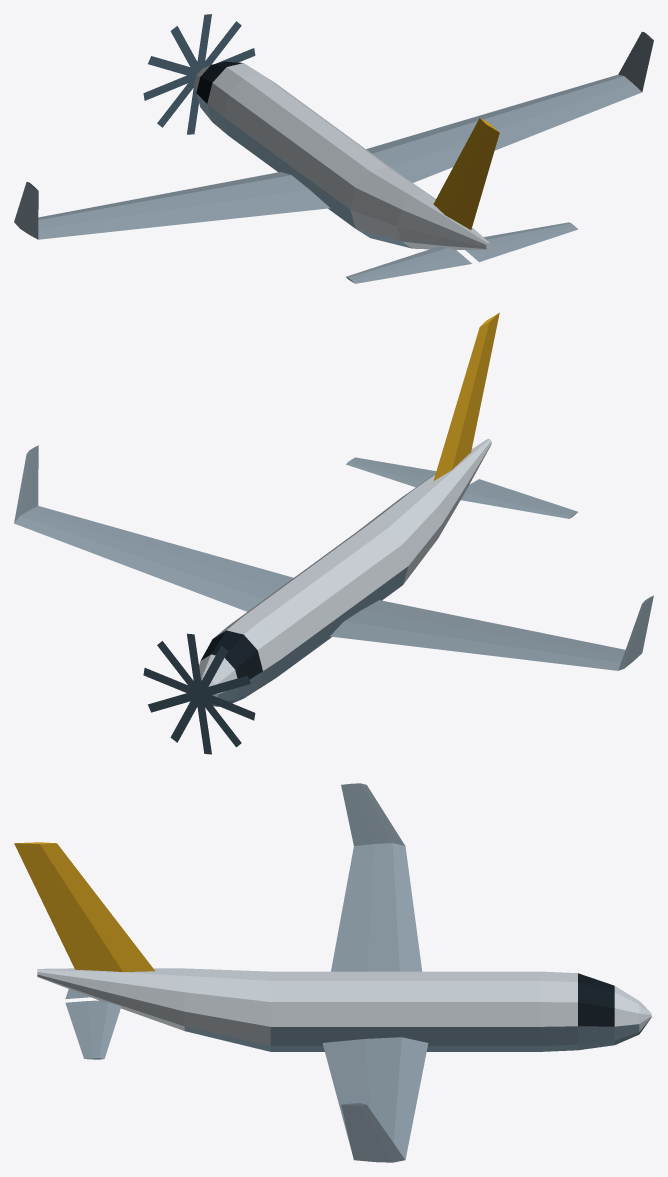
Rendered from TBM9.glb.
3 renders of one model, top to bottom at view 1: azimuth 30°, elevation 25°; view 2: azimuth 150°, elevation 25°; view 3: azimuth 270°, elevation 25°, orthographic. The views are drawn at different scales.
Visible parts, largest first — view 1: lod0; view 2: lod0; view 3: lod0.
Part boxes in pixels (left/top/right/bottom): lod0: left=14, top=14, right=653, bottom=283; lod0: left=14, top=312, right=653, bottom=754; lod0: left=14, top=783, right=651, bottom=1162.
Size of what is drawn, in the model's own units: 1.18 by 0.4046 by 1.
